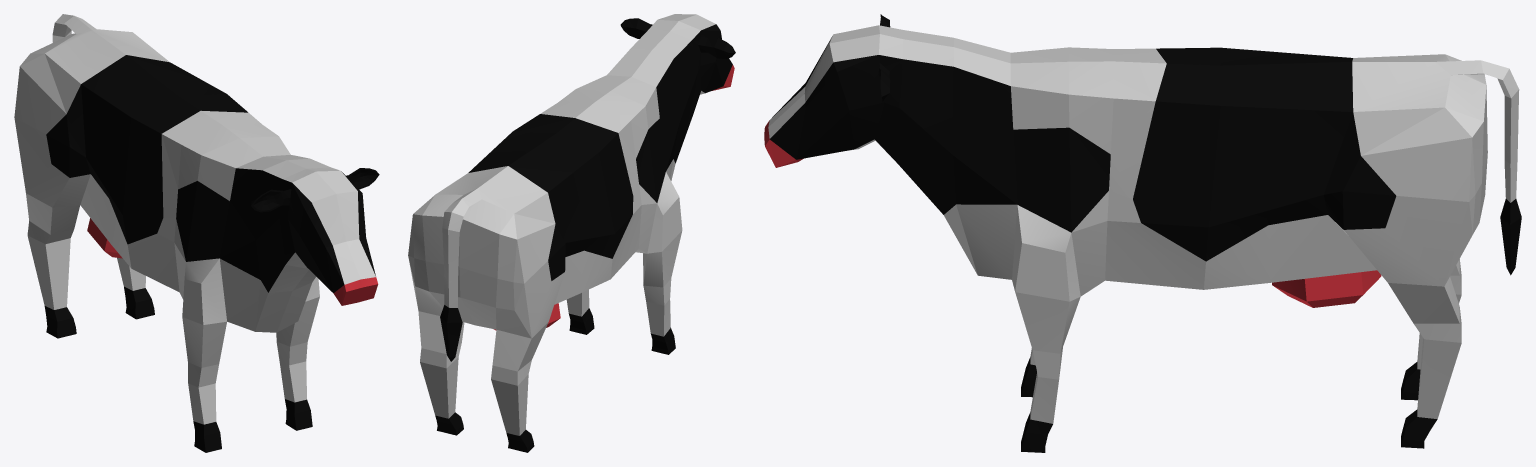
Rendered from cow.obj.
3 views of the same model, side by side, from view 1: azimuth 30°, elevation 25°; view 2: azimuth 150°, elevation 25°; view 3: azimuth 270°, elevation 25° (orthographic). The views are drawn at different scales.
Visible parts, largest first — view 1: Cow; view 2: Cow; view 3: Cow.
Part boxes in pixels (bbox=[...]): Cow: bbox=[14, 14, 379, 452]; Cow: bbox=[408, 14, 735, 452]; Cow: bbox=[764, 14, 1521, 452].
Size of the model in its own units: 2.25 by 5.15 by 9.17.
